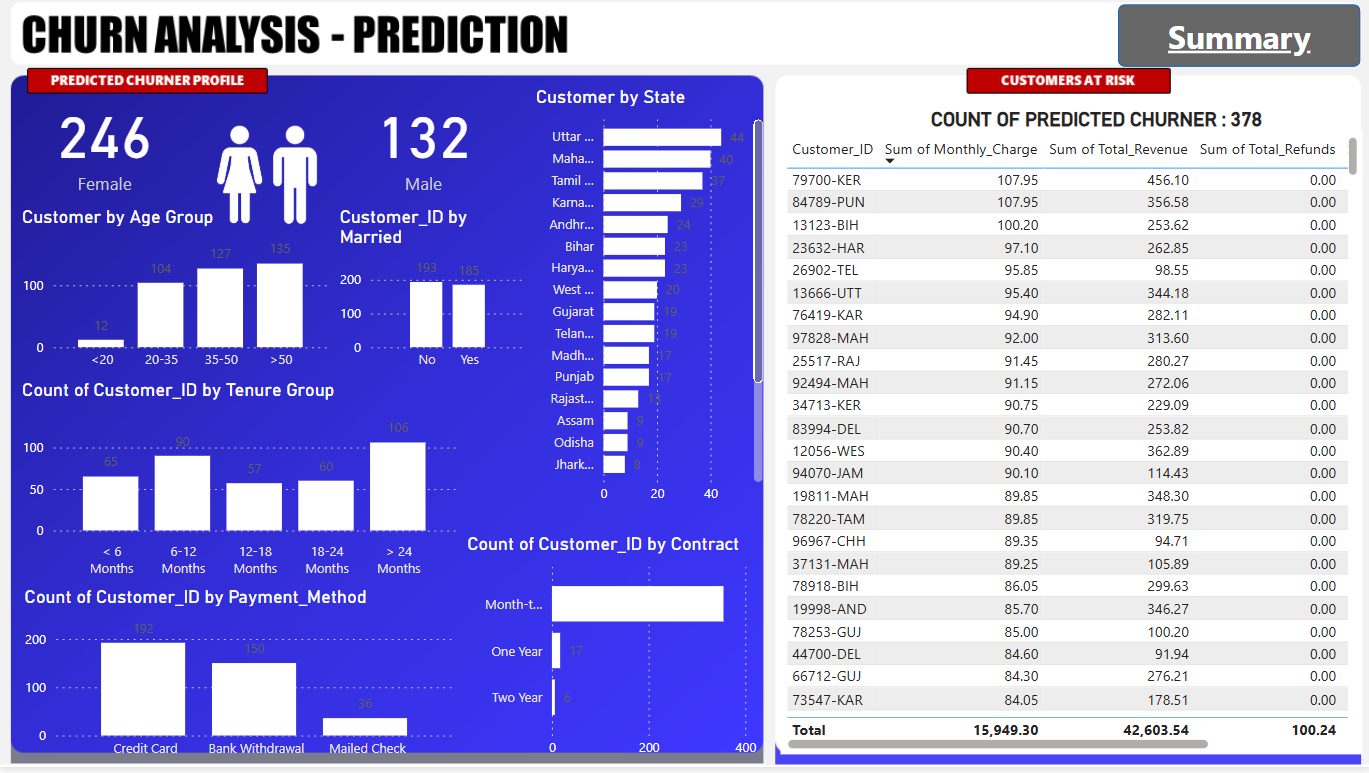

Layout of this report page (visuals, bound fields, positions):
{"tool":"powerbi","page":{"name":"Churn PRedicted","canvas":[1280,720],"ordinal":2},"visuals":[{"type":"tableEx","fields":{"Values":["Predicted_Churn_newdata.Customer_ID","Sum(Predicted_Churn_newdata.Monthly_Charge)","Sum(Predicted_Churn_newdata.Total_Revenue)","Sum(Predicted_Churn_newdata.Total_Refunds)","Sum(Predicted_Churn_newdata.Number_of_Referrals)"]},"box":[727.9,129.1,541.9,579.1],"z":0},{"type":"card","fields":{"Values":["Table_measures.Title Predicted Churner"]},"box":[852.3,96.5,339.5,43],"z":1000},{"type":"card","fields":{"Values":["Table_measures.Count Predicted Churner"]},"box":[0,86.4,199,105.7],"z":2000},{"type":"clusteredColumnChart","title":"Customer by Age Group","fields":{"Category":["mapping_agegroup.Age Group"],"Y":["CountNonNull(Predicted_Churn_newdata.Customer_ID)"]},"box":[17.8,197.6,295,161.9],"z":4000},{"type":"clusteredColumnChart","title":"Customer_ID by Married","fields":{"Y":["CountNonNull(Predicted_Churn_newdata.Customer_ID)"],"Category":["Predicted_Churn_newdata.Married"]},"box":[312.9,197.6,182.5,161.9],"z":5000},{"type":"clusteredColumnChart","fields":{"Category":["mapping_tenuregrp.Tenure Group"],"Y":["CountNonNull(Predicted_Churn_newdata.Customer_ID)"]},"box":[17.4,359.3,414,191.9],"z":6000},{"type":"clusteredColumnChart","fields":{"Y":["CountNonNull(Predicted_Churn_newdata.Customer_ID)"],"Category":["Predicted_Churn_newdata.Payment_Method"]},"box":[19.8,551.2,411.6,169.8],"z":7000},{"type":"clusteredBarChart","fields":{"Category":["Predicted_Churn_newdata.Contract"],"Y":["CountNonNull(Predicted_Churn_newdata.Customer_ID)"]},"box":[431.4,502.3,284.9,217.4],"z":8000},{"type":"clusteredBarChart","fields":{"Y":["CountNonNull(Predicted_Churn_newdata.Customer_ID)"],"Category":["Predicted_Churn_newdata.State"]},"box":[495.4,86,220.9,397.7],"z":9000},{"type":"card","fields":{"Values":["Table_measures.Count Predicted Churner"]},"box":[296.5,86,198.8,105.8],"z":9001},{"type":"image","box":[187.2,104.7,125.6,126.7],"z":9002},{"type":"shape","box":[1041.9,10.5,225.6,58.1],"z":9003}]}

Visuals, with their boxes in screenshot pixels (x1, y1, x2, y2), scaled from the page's 1280x720 canvas onto the 1369x773 screenshot:
tableEx - Predicted_Churn_newdata.Customer_ID x Sum(Predicted_Churn_newdata.Monthly_Charge): [left=779, top=139, right=1358, bottom=760]
card - Table_measures.Title Predicted Churner: [left=912, top=104, right=1275, bottom=150]
card - Table_measures.Count Predicted Churner: [left=0, top=93, right=213, bottom=206]
"Customer by Age Group" clusteredColumnChart: [left=19, top=212, right=335, bottom=386]
"Customer_ID by Married" clusteredColumnChart: [left=335, top=212, right=530, bottom=386]
clusteredColumnChart - mapping_tenuregrp.Tenure Group x CountNonNull(Predicted_Churn_newdata.Customer_ID): [left=19, top=386, right=461, bottom=592]
clusteredColumnChart - CountNonNull(Predicted_Churn_newdata.Customer_ID) x Predicted_Churn_newdata.Payment_Method: [left=21, top=592, right=461, bottom=772]
clusteredBarChart - Predicted_Churn_newdata.Contract x CountNonNull(Predicted_Churn_newdata.Customer_ID): [left=461, top=539, right=766, bottom=772]
clusteredBarChart - CountNonNull(Predicted_Churn_newdata.Customer_ID) x Predicted_Churn_newdata.State: [left=530, top=92, right=766, bottom=519]
card - Table_measures.Count Predicted Churner: [left=317, top=92, right=530, bottom=206]
image: [left=200, top=112, right=335, bottom=248]
shape: [left=1114, top=11, right=1356, bottom=74]
